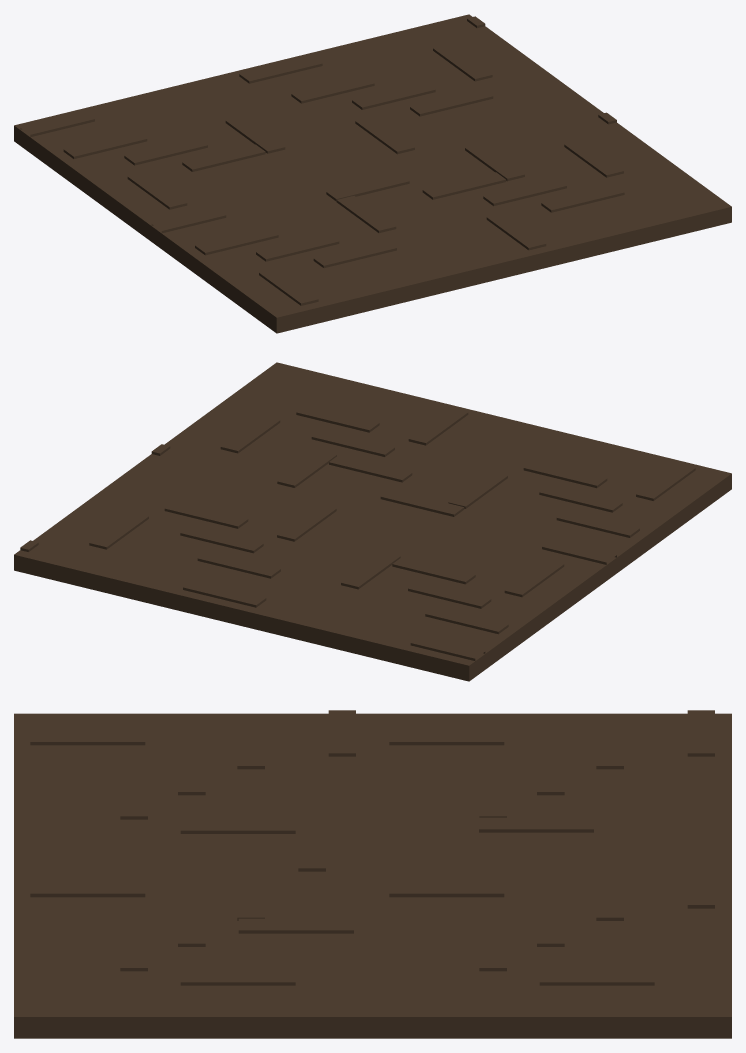
File: floor-parquet-c-3x3m.fbx
3 views of the same model, one above another, from view 1: azimuth 30°, elevation 25°; view 2: azimuth 150°, elevation 25°; view 3: azimuth 270°, elevation 25° (orthographic). The views are drawn at different scales.
Visible parts, largest first — view 1: floor-parquet-c-3x3m; view 2: floor-parquet-c-3x3m; view 3: floor-parquet-c-3x3m.
Boxes of the visible parts, bbox=[...] form: floor-parquet-c-3x3m: bbox=[14, 14, 731, 333]; floor-parquet-c-3x3m: bbox=[14, 362, 731, 681]; floor-parquet-c-3x3m: bbox=[14, 710, 731, 1038].
Size of the model in its own units: 3 by 0.1157 by 3.
